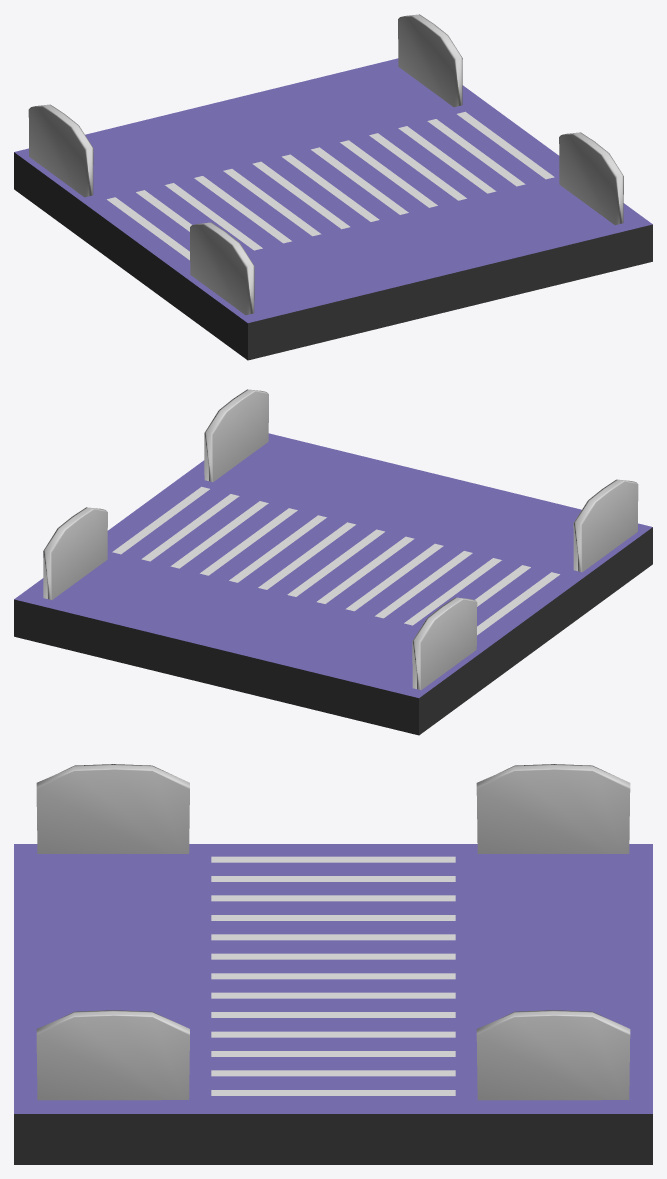
Rendered from road_4.fbx.
3 views of the same model, one above another, from view 1: azimuth 30°, elevation 25°; view 2: azimuth 150°, elevation 25°; view 3: azimuth 270°, elevation 25° (orthographic). The views are drawn at different scales.
Parts seen in each view (by area): view 1: Road.004, Lines, Cube.116, Cube.115; view 2: Road.004, Lines, Cube.116, Cube.115; view 3: Road.004, Cube.115, Cube.116, Lines.
Part boxes in pixels (x1=…): Road.004: x1=14, y1=58, x2=652, y2=360; Lines: x1=107, y1=111, x2=554, y2=260; Cube.116: x1=28, y1=104, x2=254, y2=315; Cube.115: x1=398, y1=14, x2=623, y2=225; Road.004: x1=14, y1=433, x2=652, y2=735; Lines: x1=112, y1=486, x2=559, y2=635; Cube.116: x1=412, y1=479, x2=638, y2=690; Cube.115: x1=43, y1=389, x2=268, y2=599; Road.004: x1=14, y1=844, x2=652, y2=1164; Cube.115: x1=36, y1=1010, x2=630, y2=1100; Cube.116: x1=36, y1=764, x2=630, y2=853; Lines: x1=211, y1=856, x2=455, y2=1095.
Bounding box in the file's own units: 800 × 186 × 800.
